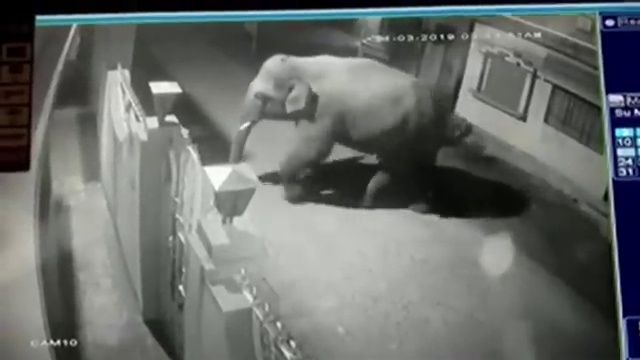Elephant: (230, 54, 437, 215)
